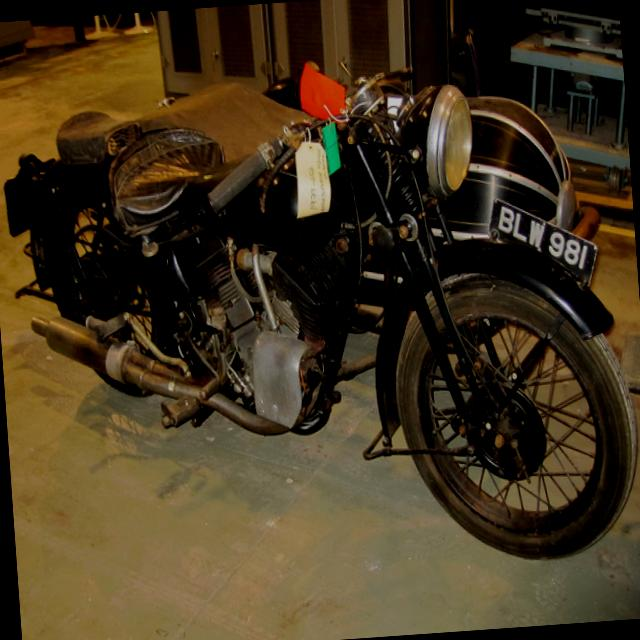Vehicle: (0, 35, 640, 595)
